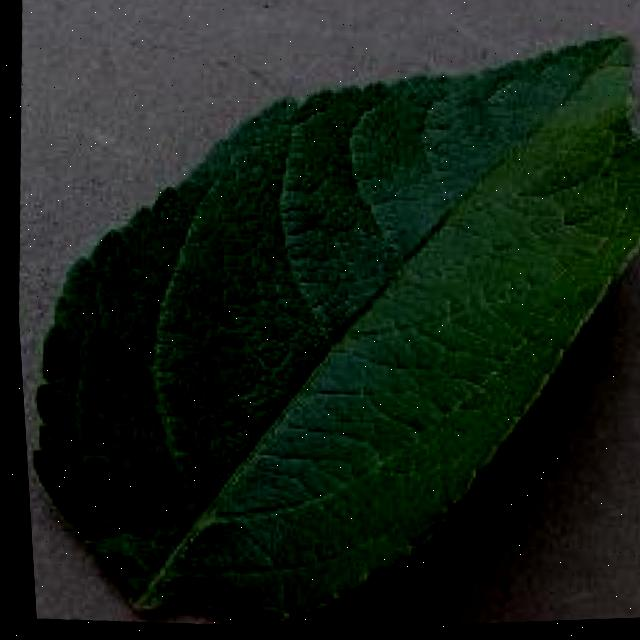healthy: (1, 0, 640, 640)
